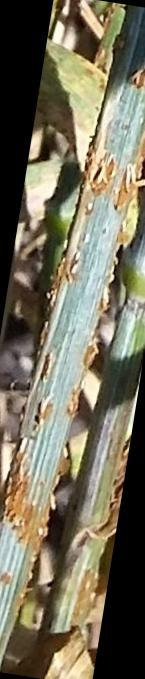Wheat: (0, 137, 145, 564)
